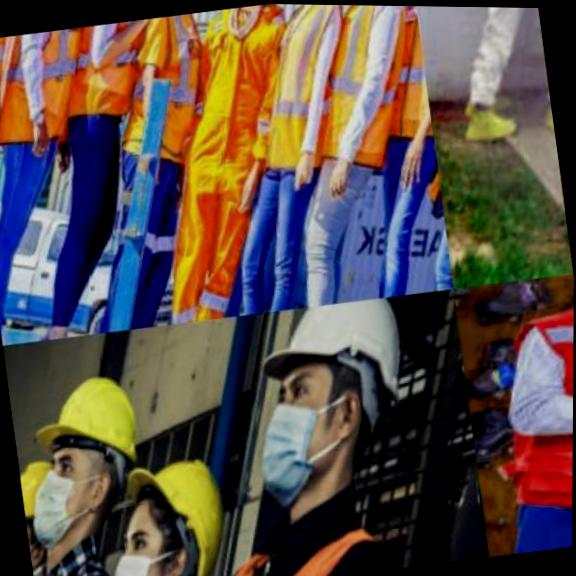safety_vest: (114, 2, 335, 327), (103, 461, 395, 576), (463, 271, 574, 557), (235, 3, 383, 193), (297, 4, 439, 187), (101, 8, 243, 179), (0, 23, 120, 166), (55, 15, 183, 141), (365, 5, 437, 160), (437, 6, 549, 97), (0, 33, 50, 155)
